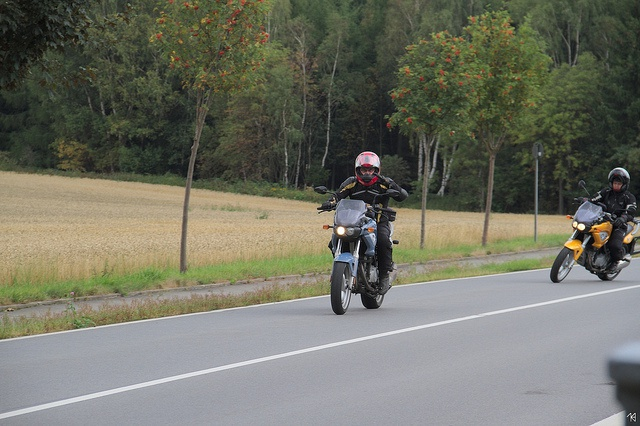non-vehicle: (313, 185, 401, 315), (546, 182, 618, 283)
